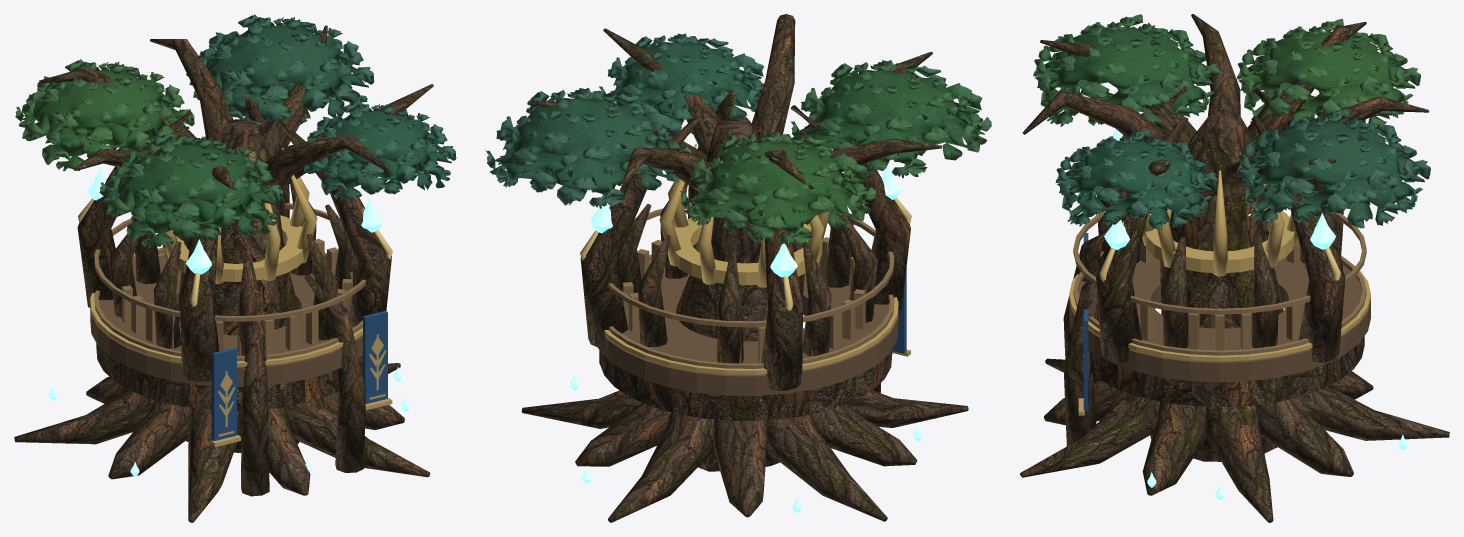
File: lioraen_groveheart_ancient_bough_r1.glb
The picture shows the model from 3 angles, left to right: view 1: azimuth 30°, elevation 25°; view 2: azimuth 150°, elevation 25°; view 3: azimuth 270°, elevation 25°; orthographic projection. The views are drawn at different scales.
Parts seen in each view (by area): view 1: Groveheart_Ancient_bark_photographed_albedo, Living canopy 0, Living canopy 3, Living canopy 2, Living canopy 1, Groveheart_Leaf-gold_filigree, Carved circular terrace, Groveheart_Carved_edge_highlights, Groveheart_Ceremonial_azure_cloth, Groveheart_Lioraen_heartlight, Groveheart_Polished_gilded_details; view 2: Groveheart_Ancient_bark_photographed_albedo, Living canopy 3, Living canopy 2, Living canopy 0, Carved circular terrace, Living canopy 1, Groveheart_Leaf-gold_filigree, Groveheart_Carved_edge_highlights, Groveheart_Lioraen_heartlight, Groveheart_Polished_gilded_details, Groveheart_Ceremonial_azure_cloth; view 3: Groveheart_Ancient_bark_photographed_albedo, Living canopy 3, Living canopy 0, Living canopy 2, Living canopy 1, Carved circular terrace, Groveheart_Leaf-gold_filigree, Groveheart_Carved_edge_highlights, Groveheart_Lioraen_heartlight, Groveheart_Ceremonial_azure_cloth.
Boxes of the visible parts, box(x1,y1,x2,y2) form: Groveheart_Ancient_bark_photographed_albedo: box(14, 25, 433, 522); Living canopy 0: box(99, 133, 283, 248); Living canopy 3: box(186, 14, 374, 127); Living canopy 2: box(15, 59, 194, 171); Living canopy 1: box(303, 101, 456, 200); Groveheart_Leaf-gold_filigree: box(90, 148, 392, 446); Carved circular terrace: box(90, 254, 362, 386); Groveheart_Carved_edge_highlights: box(94, 203, 366, 361); Groveheart_Ceremonial_azure_cloth: box(212, 310, 387, 440); Groveheart_Lioraen_heartlight: box(49, 167, 409, 476); Groveheart_Polished_gilded_details: box(78, 198, 392, 306); Groveheart_Ancient_bark_photographed_albedo: box(521, 14, 968, 522); Living canopy 3: box(485, 87, 691, 208); Living canopy 2: box(680, 131, 875, 246); Living canopy 0: box(790, 60, 991, 178); Carved circular terrace: box(598, 261, 898, 395); Living canopy 1: box(598, 33, 763, 134); Groveheart_Leaf-gold_filigree: box(604, 144, 910, 374); Groveheart_Carved_edge_highlights: box(608, 202, 894, 368); Groveheart_Lioraen_heartlight: box(570, 141, 922, 513); Groveheart_Polished_gilded_details: box(580, 197, 911, 310); Groveheart_Ceremonial_azure_cloth: box(892, 267, 906, 353); Groveheart_Ancient_bark_photographed_albedo: box(1020, 14, 1449, 522); Living canopy 3: box(1237, 109, 1430, 228); Living canopy 0: box(1033, 14, 1220, 126); Living canopy 2: box(1236, 19, 1420, 126); Living canopy 1: box(1055, 129, 1218, 230); Carved circular terrace: box(1069, 256, 1370, 382); Groveheart_Leaf-gold_filigree: box(1069, 170, 1370, 415); Groveheart_Carved_edge_highlights: box(1073, 211, 1366, 355); Groveheart_Lioraen_heartlight: box(1104, 129, 1407, 500); Groveheart_Ceremonial_azure_cloth: box(1083, 233, 1088, 410).
Size of what is drawn, in the model's own units: 2.47 by 2.24 by 2.42.
12 materials, 5 textured.
